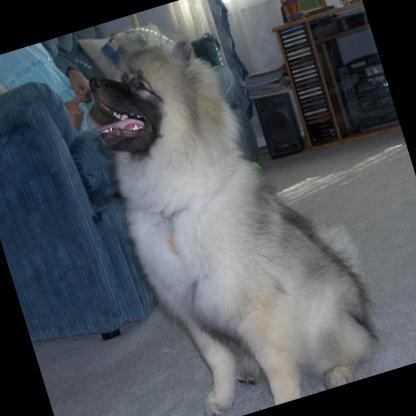keeshond: (68, 0, 394, 416)
